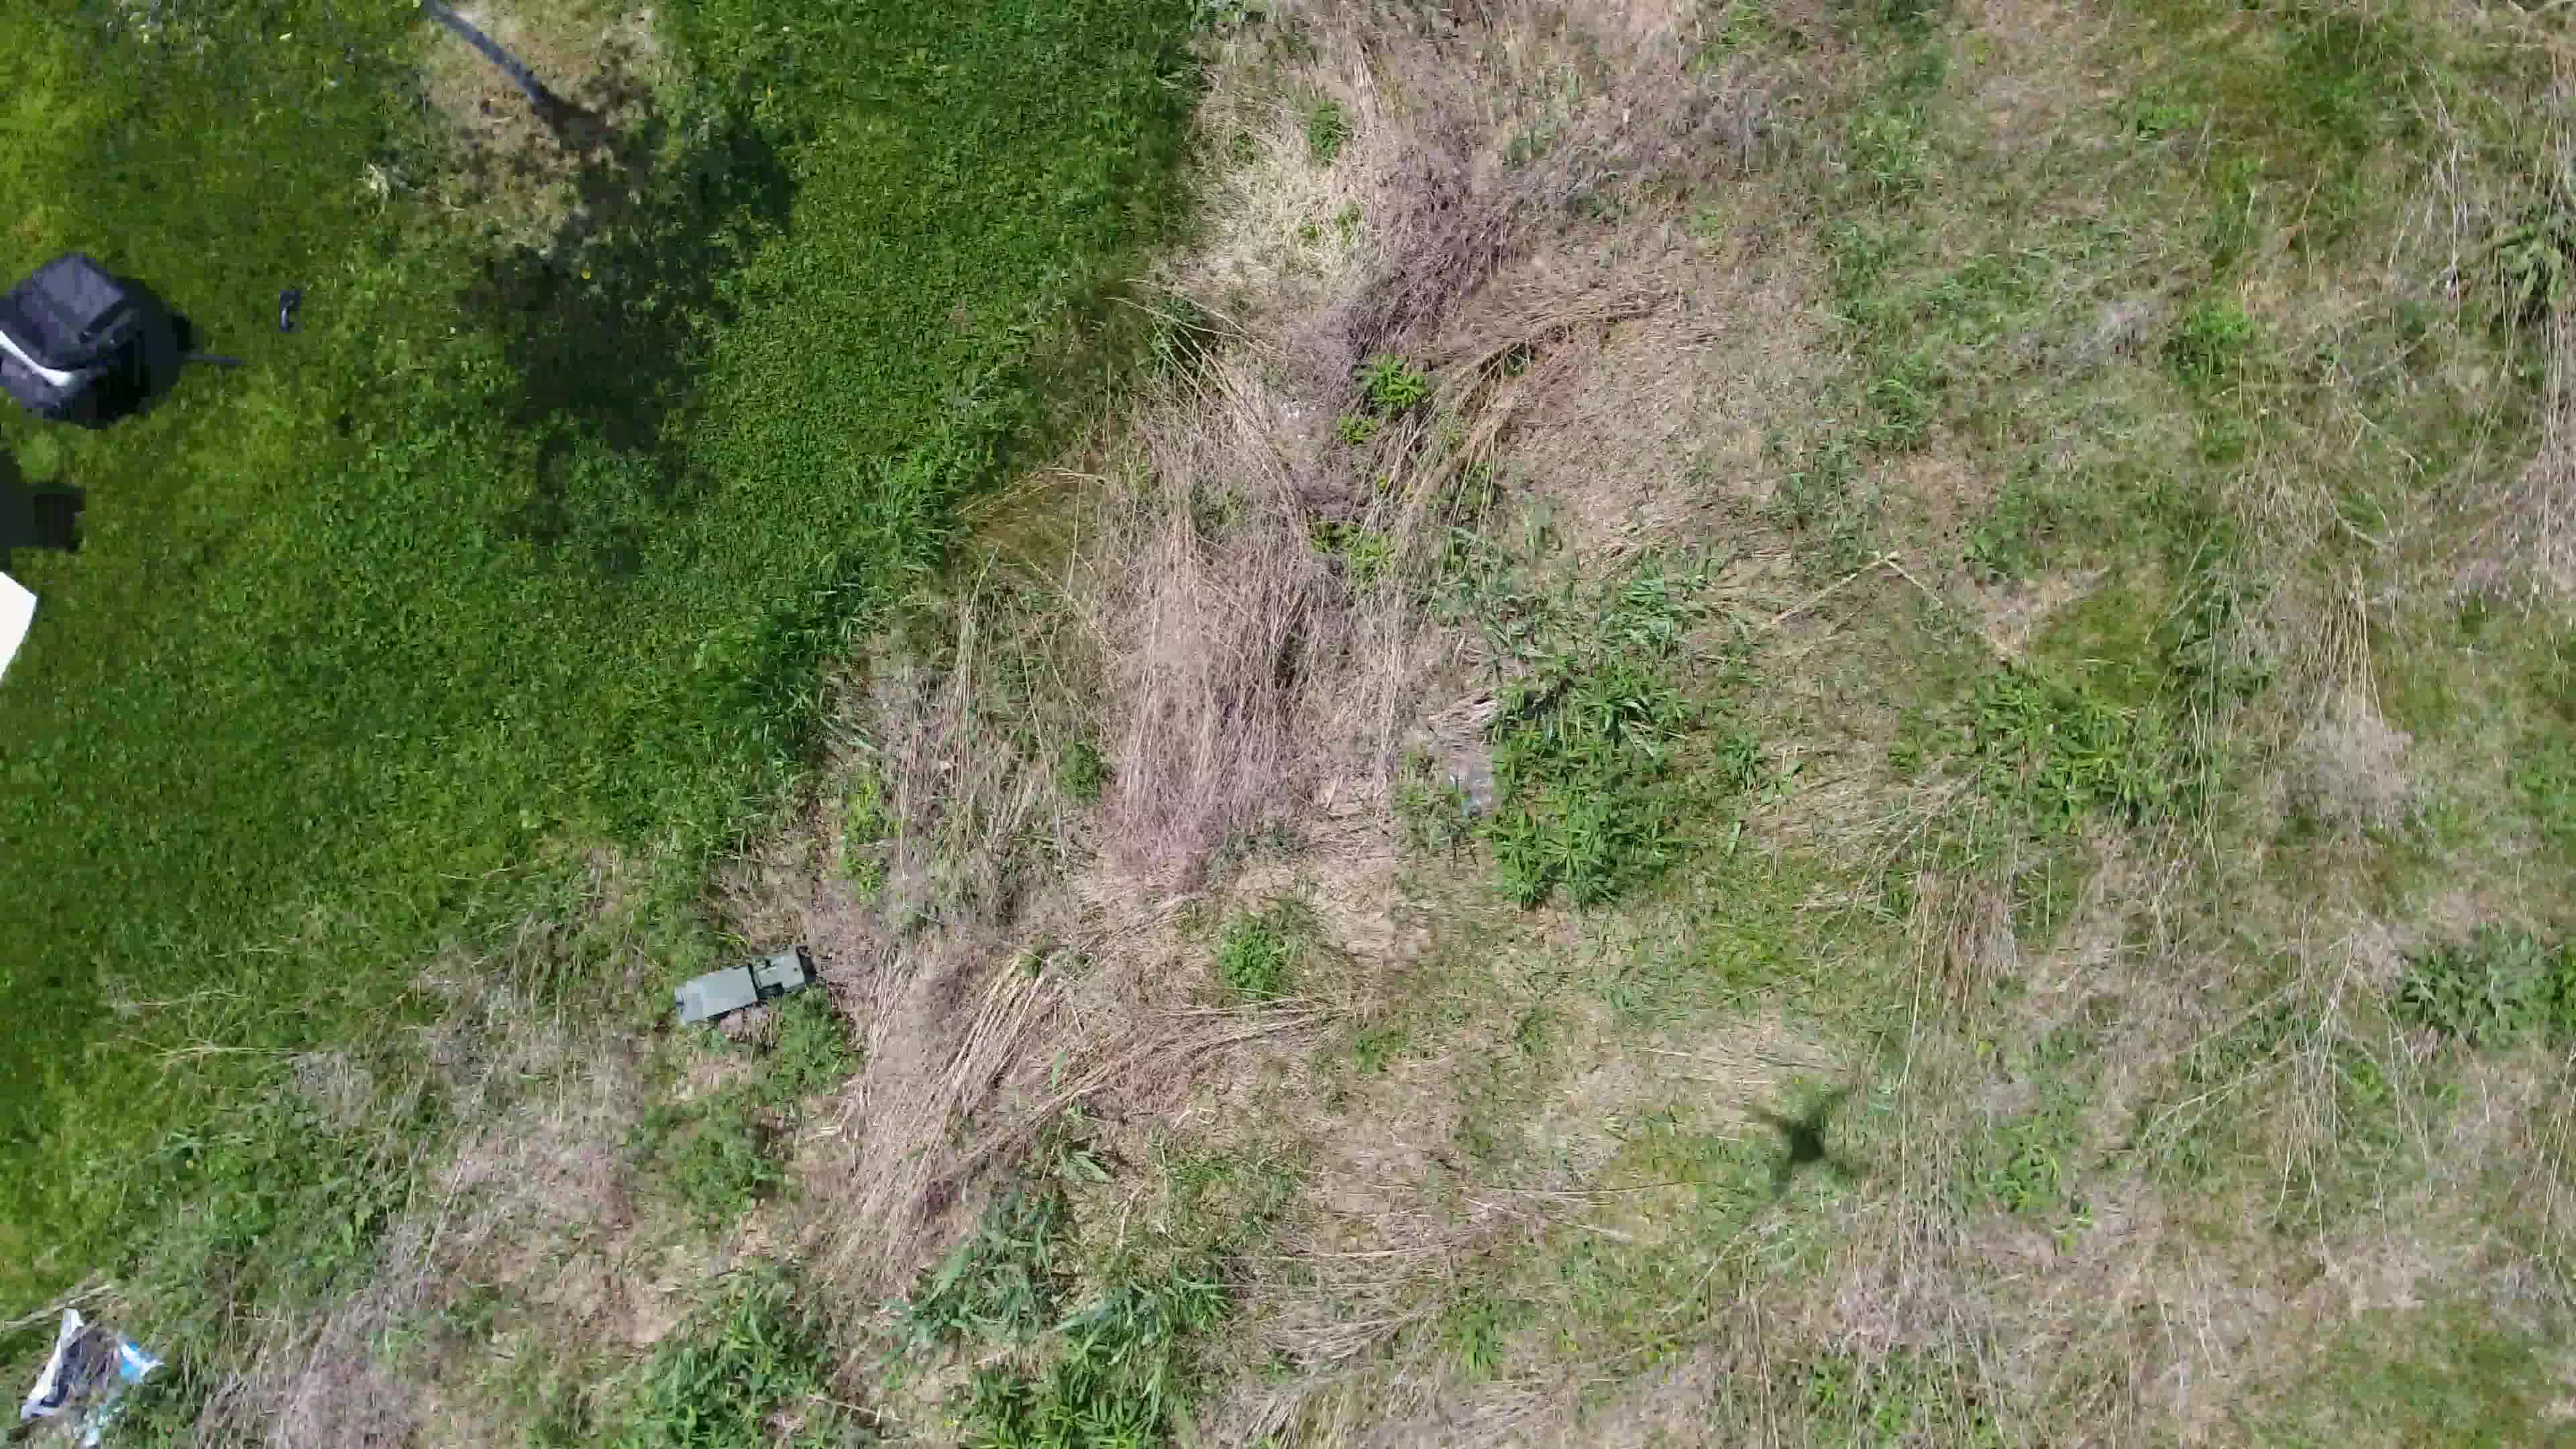transporter9: (671, 941, 816, 1031)
